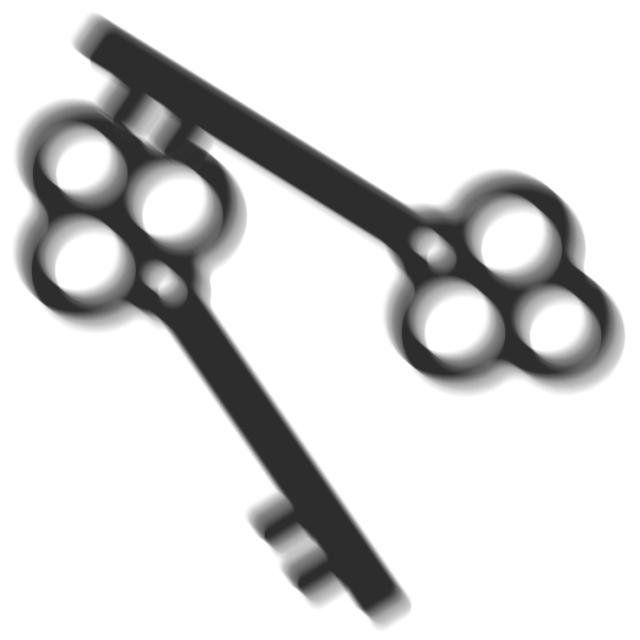key: (16, 1, 633, 410), (5, 71, 424, 639)
